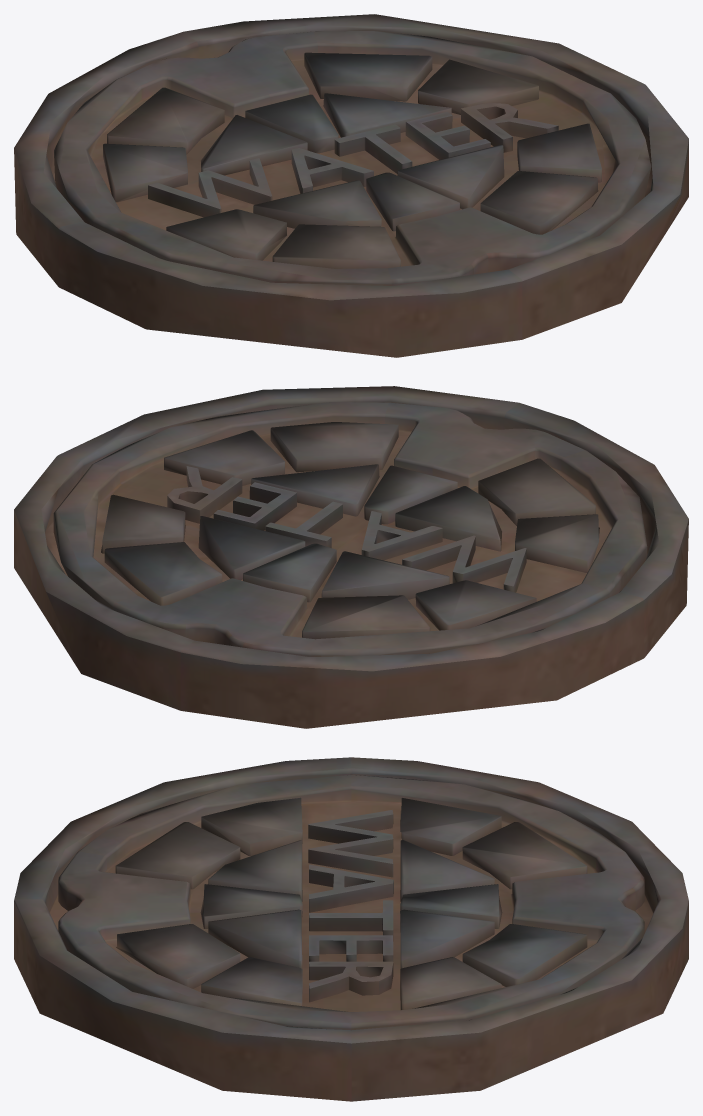
The model's file is water_manhole_cover.glb.
3 views of the same model, one above another, from view 1: azimuth 30°, elevation 25°; view 2: azimuth 150°, elevation 25°; view 3: azimuth 270°, elevation 25° (orthographic).
Parts seen in each view (by area): view 1: water_manhole_cover_frame; view 2: water_manhole_cover_frame; view 3: water_manhole_cover_frame.
Part boxes in pixels (bbox=[...]): water_manhole_cover_frame: bbox=[14, 14, 688, 357]; water_manhole_cover_frame: bbox=[14, 386, 688, 728]; water_manhole_cover_frame: bbox=[14, 757, 688, 1101].
Bounding box in the file's own units: 0.6908 × 0.0676 × 0.6908.
Materials: 1 (1 with a texture image).
